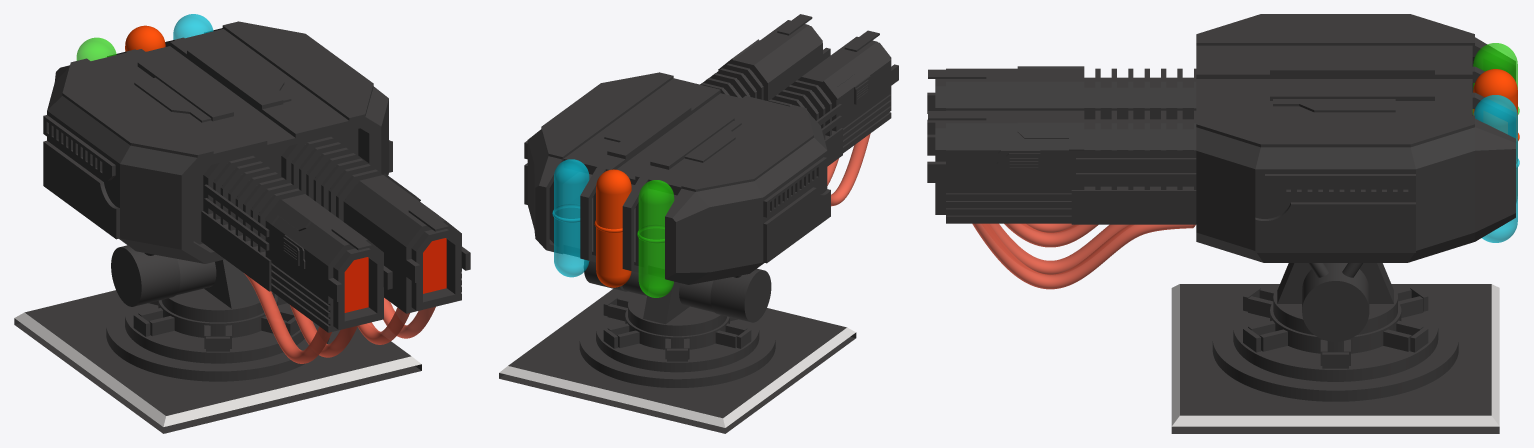
File: cannon.glb
3 renders of one model, left to right at view 1: azimuth 30°, elevation 25°; view 2: azimuth 150°, elevation 25°; view 3: azimuth 270°, elevation 25°, orthographic. The views are drawn at different scales.
Parts seen in each view (by area): view 1: Canon (×7); view 2: Canon (×6); view 3: Canon (×6).
Boxes of the visible parts, x1=… form: Canon (×7): x1=14, y1=14, x2=470, y2=433; Canon (×6): x1=499, y1=14, x2=898, y2=433; Canon (×6): x1=927, y1=14, x2=1519, y2=433.
Bounding box in the file's own units: 0.4284 × 0.395 × 0.7223.
Materials: 7 (1 with a texture image).
